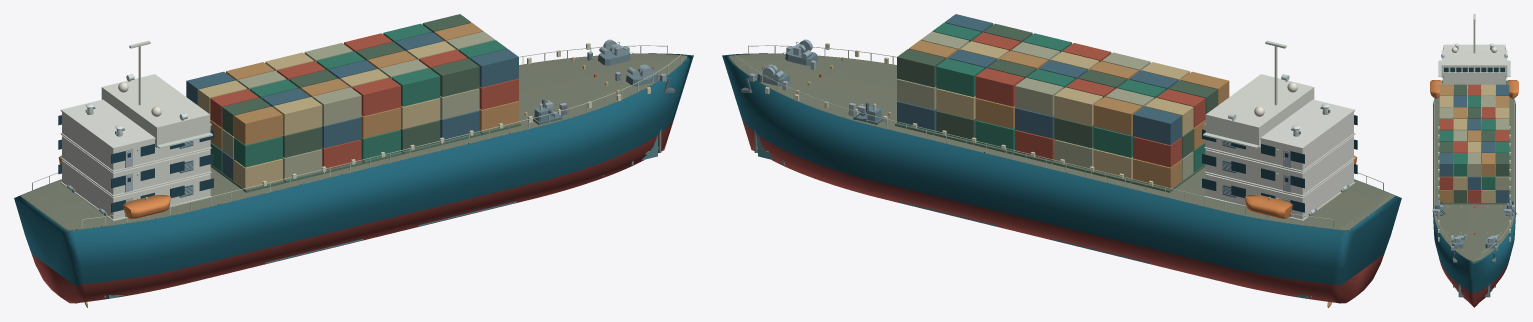
Rendered from yara-birkeland.lod1.glb.
3 renders of one model, left to right at view 1: azimuth 30°, elevation 25°; view 2: azimuth 150°, elevation 25°; view 3: azimuth 270°, elevation 25°, orthographic. The views are drawn at different scales.
Visible parts, largest first — view 1: yara-birkeland.structure.hull.outer-hull-shell.1, yara-birkeland.structure.decks.main-strength-deck.1, yara-birkeland.structure.hull.antifouling-underwater-shell.1, yara-birkeland.navigation.bridge.wheelhouse.1, yara-birkeland.accommodation.superstructure.deck-2-enclosure, yara-birkeland.accommodation.superstructure.deck-1-enclosure, yara-birkeland.accommodation.superstructure.superstructure-w, yara-birkeland.accommodation.superstructure.deck-3-enclosure, yara-birkeland.cargo.container-stacks.bay-4-row-5-tier-3.1, yara-birkeland.cargo.container-stacks.bay-5-row-5-tier-3.1, yara-birkeland.cargo.container-stacks.bay-6-row-5-tier-3.1, yara-birkeland.cargo.container-stacks.bay-8-row-5-tier-3.1 (+46 smaller); view 2: yara-birkeland.structure.hull.outer-hull-shell.1, yara-birkeland.structure.decks.main-strength-deck.1, yara-birkeland.structure.hull.antifouling-underwater-shell.1, yara-birkeland.navigation.bridge.wheelhouse.1, yara-birkeland.accommodation.superstructure.deck-2-enclosure, yara-birkeland.accommodation.superstructure.deck-1-enclosure, yara-birkeland.accommodation.superstructure.superstructure-w, yara-birkeland.accommodation.superstructure.deck-3-enclosure, yara-birkeland.cargo.container-stacks.bay-4-row-1-tier-3.1, yara-birkeland.cargo.container-stacks.bay-5-row-1-tier-3.1, yara-birkeland.cargo.container-stacks.bay-8-row-1-tier-3.1, yara-birkeland.cargo.container-stacks.bay-9-row-1-tier-3.1 (+46 smaller); view 3: yara-birkeland.structure.decks.main-strength-deck.1, yara-birkeland.structure.hull.outer-hull-shell.1, yara-birkeland.navigation.bridge.wheelhouse.1, yara-birkeland.accommodation.superstructure.deck-3-enclosure, yara-birkeland.structure.hull.antifouling-underwater-shell.1, yara-birkeland.accommodation.superstructure.superstructure-w, yara-birkeland.cargo.container-stacks.bay-10-row-1-tier-3.1, yara-birkeland.cargo.container-stacks.bay-10-row-2-tier-3.1, yara-birkeland.cargo.container-stacks.bay-10-row-4-tier-3.1, yara-birkeland.cargo.container-stacks.bay-10-row-5-tier-3.1, yara-birkeland.cargo.container-stacks.bay-10-row-3-tier-3.1, yara-birkeland.cargo.hatch-covers.cargo-hatch-10.1 (+49 smaller).
Boxes of the visible parts, x1,y1,x2,y2 form: yara-birkeland.structure.hull.outer-hull-shell.1: (14,53,693,285); yara-birkeland.structure.decks.main-strength-deck.1: (21,54,687,230); yara-birkeland.structure.hull.antifouling-underwater-shell.1: (31,119,673,303); yara-birkeland.navigation.bridge.wheelhouse.1: (101,74,210,147); yara-birkeland.accommodation.superstructure.deck-2-enclosure: (62,136,210,194); yara-birkeland.accommodation.superstructure.deck-1-enclosure: (62,160,210,219); yara-birkeland.accommodation.superstructure.superstructure-w: (60,99,211,149); yara-birkeland.accommodation.superstructure.deck-3-enclosure: (62,112,210,170); yara-birkeland.cargo.container-stacks.bay-4-row-5-tier-3.1: (234,106,282,145); yara-birkeland.cargo.container-stacks.bay-5-row-5-tier-3.1: (273,97,322,135); yara-birkeland.cargo.container-stacks.bay-6-row-5-tier-3.1: (313,87,361,125); yara-birkeland.cargo.container-stacks.bay-8-row-5-tier-3.1: (391,68,440,106); yara-birkeland.structure.hull.outer-hull-shell.1: (722,53,1401,285); yara-birkeland.structure.decks.main-strength-deck.1: (728,54,1394,230); yara-birkeland.structure.hull.antifouling-underwater-shell.1: (741,118,1384,303); yara-birkeland.navigation.bridge.wheelhouse.1: (1205,74,1314,147); yara-birkeland.accommodation.superstructure.deck-2-enclosure: (1205,136,1353,194); yara-birkeland.accommodation.superstructure.deck-1-enclosure: (1205,160,1353,219); yara-birkeland.accommodation.superstructure.superstructure-w: (1204,99,1355,149); yara-birkeland.accommodation.superstructure.deck-3-enclosure: (1205,112,1353,170); yara-birkeland.cargo.container-stacks.bay-4-row-1-tier-3.1: (1133,106,1181,145); yara-birkeland.cargo.container-stacks.bay-5-row-1-tier-3.1: (1093,97,1142,135); yara-birkeland.cargo.container-stacks.bay-8-row-1-tier-3.1: (975,68,1024,106); yara-birkeland.cargo.container-stacks.bay-9-row-1-tier-3.1: (936,58,984,97); yara-birkeland.structure.decks.main-strength-deck.1: (1433,82,1515,262); yara-birkeland.structure.hull.outer-hull-shell.1: (1433,80,1515,292); yara-birkeland.navigation.bridge.wheelhouse.1: (1441,50,1507,77); yara-birkeland.accommodation.superstructure.deck-3-enclosure: (1444,73,1504,86); yara-birkeland.structure.hull.antifouling-underwater-shell.1: (1439,259,1509,307); yara-birkeland.accommodation.superstructure.superstructure-w: (1443,44,1505,73); yara-birkeland.cargo.container-stacks.bay-10-row-1-tier-3.1: (1496,153,1509,176); yara-birkeland.cargo.container-stacks.bay-10-row-2-tier-3.1: (1482,153,1495,176); yara-birkeland.cargo.container-stacks.bay-10-row-4-tier-3.1: (1453,153,1466,176); yara-birkeland.cargo.container-stacks.bay-10-row-5-tier-3.1: (1439,153,1452,176); yara-birkeland.cargo.container-stacks.bay-10-row-3-tier-3.1: (1468,153,1480,176); yara-birkeland.cargo.hatch-covers.cargo-hatch-10.1: (1438,192,1510,204).
Size of the model in its own units: 80 by 27.39 by 15.82.
